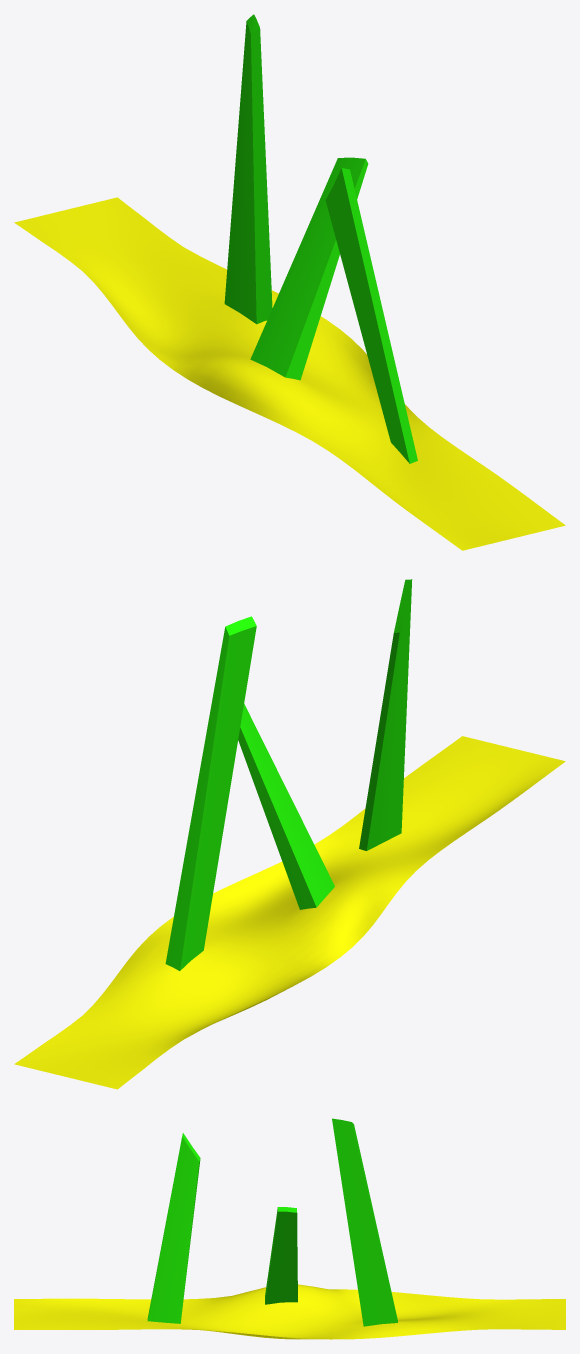
Rendered from Rhino-yellowobstacles.FBX.
The picture shows the model from 3 angles, top to bottom: view 1: azimuth 30°, elevation 25°; view 2: azimuth 150°, elevation 25°; view 3: azimuth 270°, elevation 25°; orthographic projection. The views are drawn at different scales.
Parts seen in each view (by area): view 1: Obj_010; view 2: Obj_010; view 3: Obj_010.
Boxes of the visible parts, x1,y1,x2,y2 form: Obj_010: (14,14,565,550); Obj_010: (14,579,565,1089); Obj_010: (14,1118,565,1339).
Bounding box in the file's own units: 2572 × 4993 × 11970.
